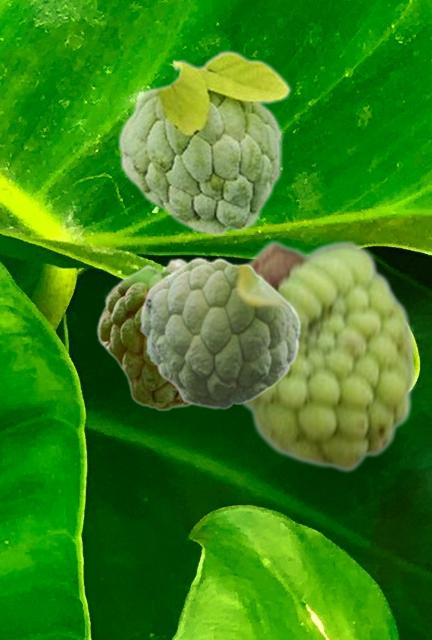atis: (241, 238, 417, 473), (116, 49, 291, 236), (139, 257, 301, 408), (95, 257, 190, 410)
